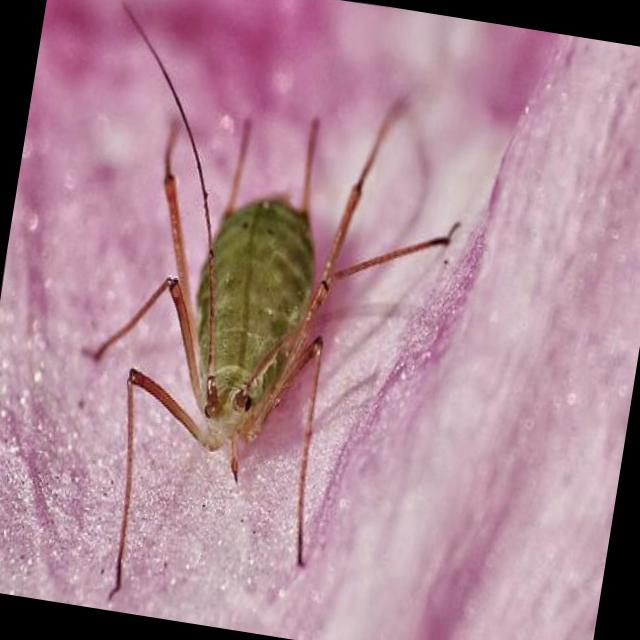aphid: (28, 39, 480, 631)
